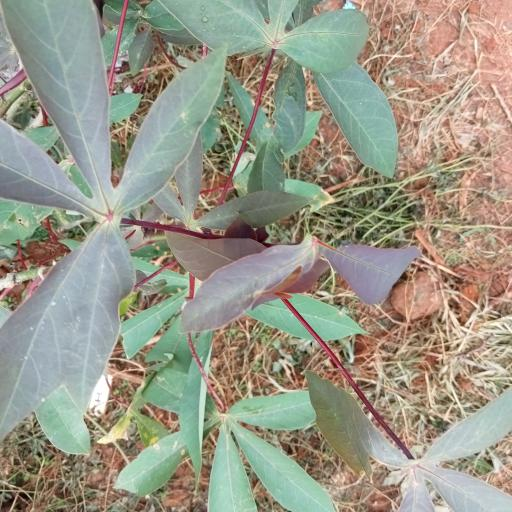Cassava_Healthy: (0, 0, 228, 440)
